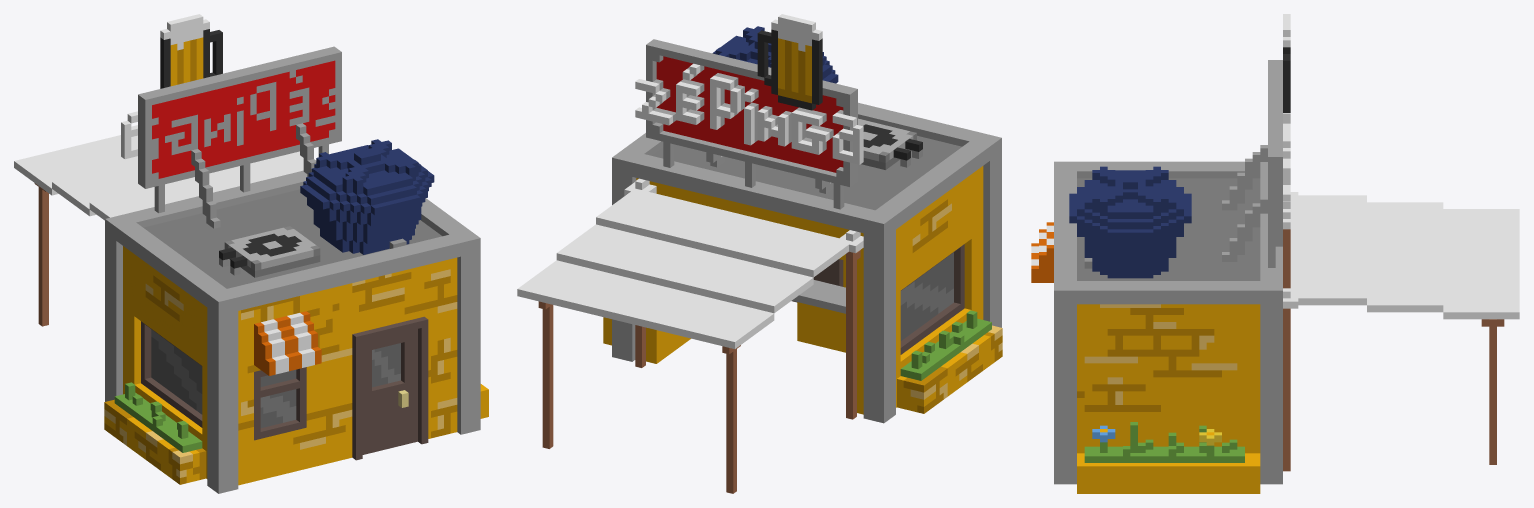
File: zépinga.obj
3 renders of one model, left to right at view 1: azimuth 30°, elevation 25°; view 2: azimuth 150°, elevation 25°; view 3: azimuth 270°, elevation 25°, orthographic. The views are drawn at different scales.
Size of the model in its own units: 4.6 by 5.4 by 6.4.
1 material, 1 textured.
